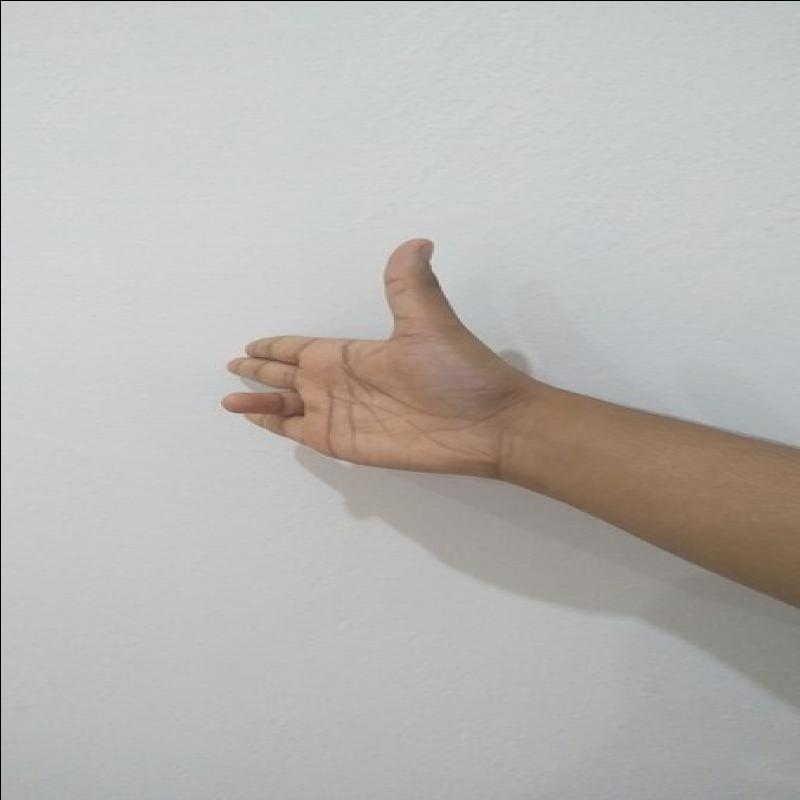Pathaaka: (210, 222, 507, 498)
